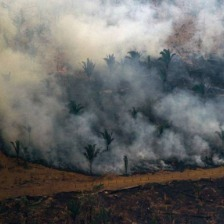incendio: (1, 29, 218, 173)
